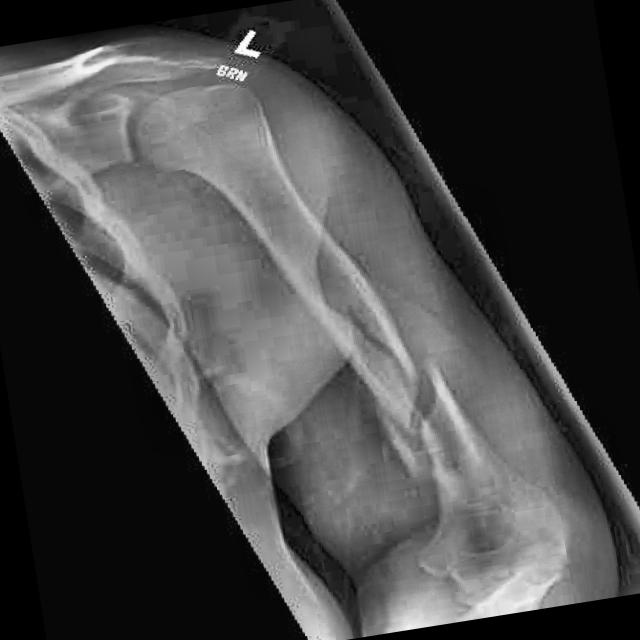humerus: (281, 338, 533, 514)
